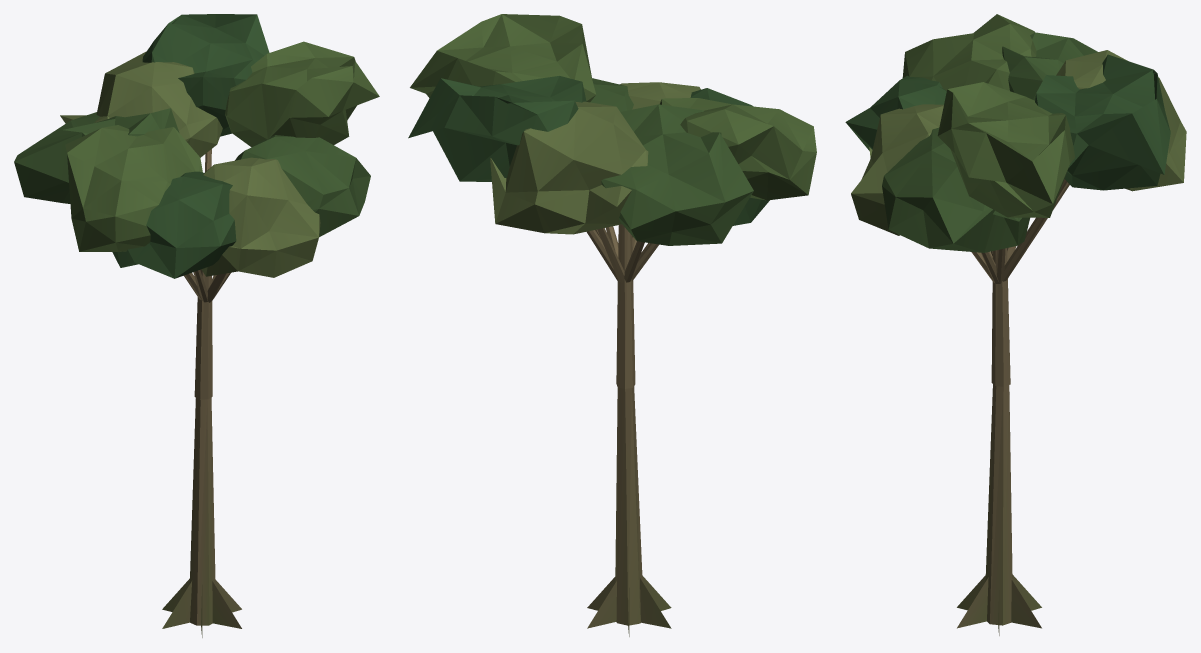
File: jungle-emergent.glb
3 renders of one model, left to right at view 1: azimuth 30°, elevation 25°; view 2: azimuth 150°, elevation 25°; view 3: azimuth 270°, elevation 25°, orthographic. The views are drawn at different scales.
Parts seen in each view (by area): view 1: Тропический гигант; view 2: Тропический гигант; view 3: Тропический гигант.
Boxes of the visible parts, <box> form: Тропический гигант: <box>14,14,379,637</box>; Тропический гигант: <box>408,14,816,636</box>; Тропический гигант: <box>845,14,1186,635</box>.
Size of the model in its own units: 28.47 by 43.45 by 23.42.
